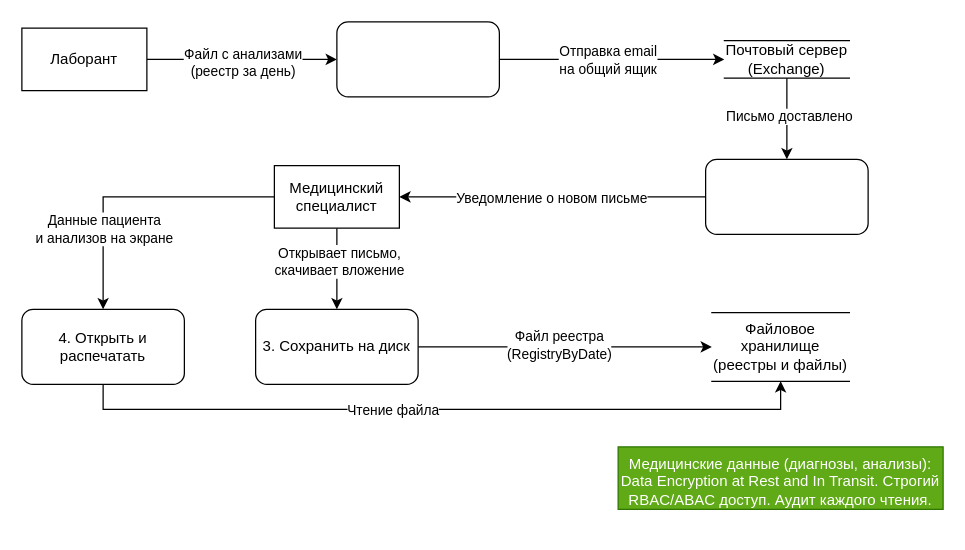
Image size: 965x550. Some labels were removed from this diagram. Each missing label, with the centre of its shape:
"1. Отправить результаты" belongs at [417,59].
"2. Получить Email" belongs at [786,196].
